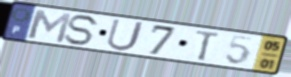5: (224, 34, 256, 67)
7: (149, 23, 177, 57)
M: (26, 7, 74, 45)
S: (62, 13, 103, 47)
T: (194, 29, 223, 62)
U: (104, 18, 147, 53)
